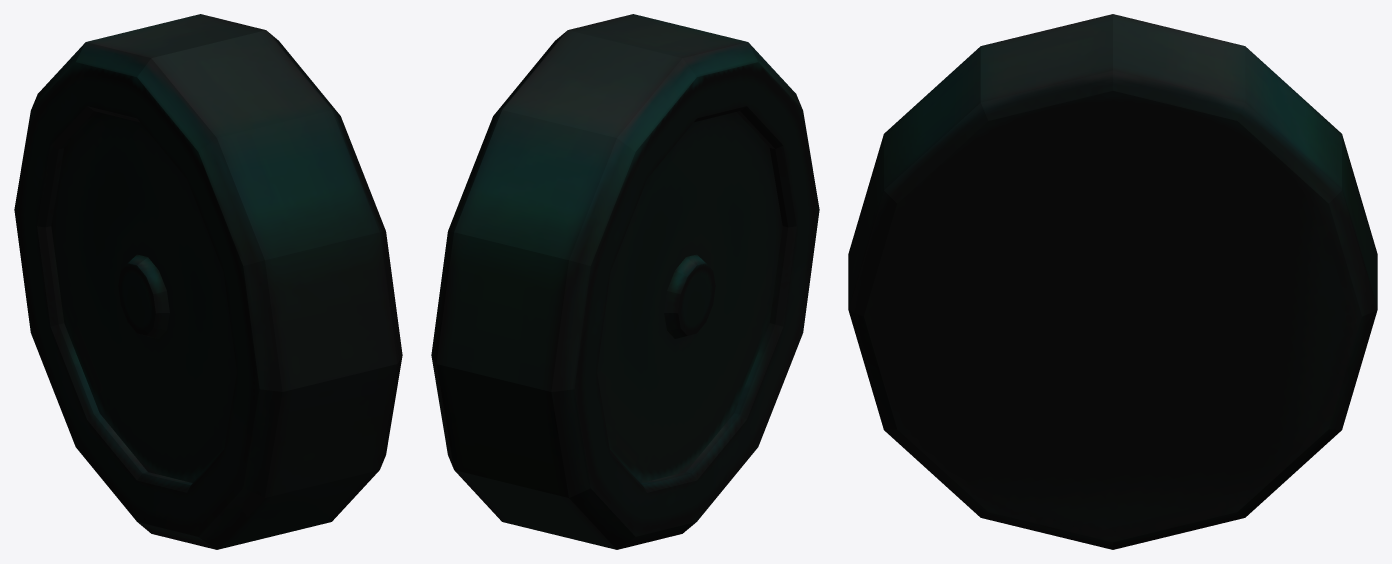
The picture shows the model from 3 angles, left to right: view 1: azimuth 30°, elevation 25°; view 2: azimuth 150°, elevation 25°; view 3: azimuth 270°, elevation 25°; orthographic projection.
Size of the model in its own units: 0.1277 by 0.4087 by 0.4087.
1 material, 1 textured.
